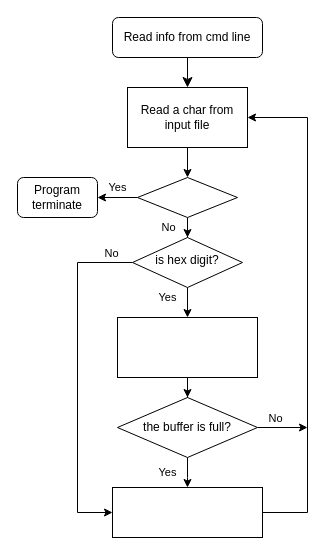
The diagram is 333 pixels wide and 555 high, and some of its shapes have lost their labels. The box of each missing label's shape, as (x1, y1, x2, y2) in pixels:
Convert current buffer into Base64 format, print it, and then reset the buffer: (112, 486, 262, 538)
Put the char into 6-char buffer sequentially: (116, 316, 258, 378)
reach EOF?: (136, 176, 238, 218)
